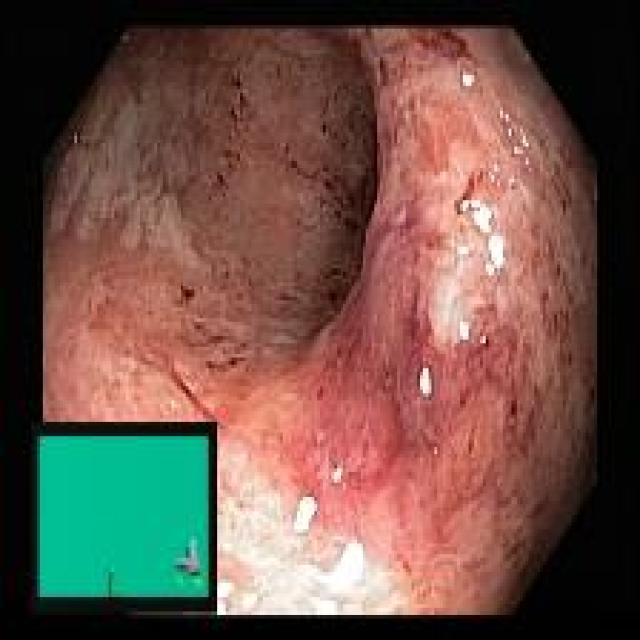ulcerative-colitis: (45, 28, 596, 614)
